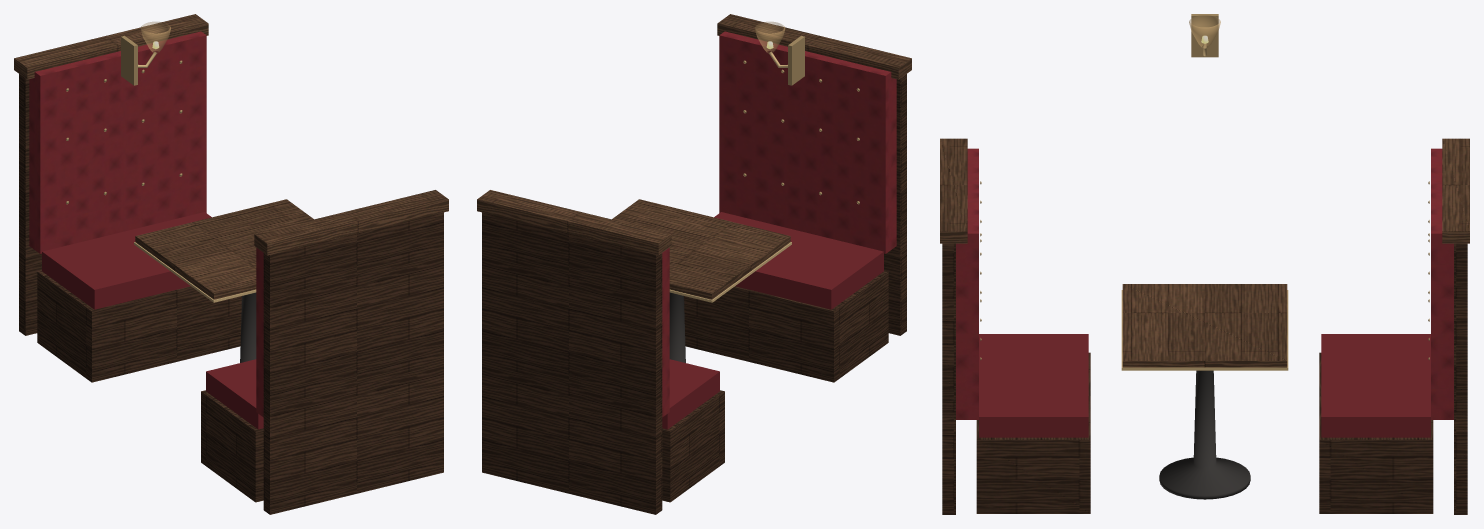
Rendered from cabine.glb.
The picture shows the model from 3 angles, left to right: view 1: azimuth 30°, elevation 25°; view 2: azimuth 150°, elevation 25°; view 3: azimuth 270°, elevation 25°; orthographic projection. The views are drawn at different scales.
Visible parts, largest first — view 1: cabine_moldura.001, cabine_encosto, cabine_base, cabine_mesa, cabine_assento, cabine_topo.001, cabine_base.001, cabine_topo, cabine_moldura, cabine_assento.001, cabine_encosto.001, cabine_mesa_pe (+2 smaller); view 2: cabine_moldura, cabine_encosto.001, cabine_base.001, cabine_mesa, cabine_assento.001, cabine_topo, cabine_base, cabine_topo.001, cabine_moldura.001, cabine_assento, cabine_encosto, cabine_mesa_pe (+2 smaller); view 3: cabine_mesa, cabine_assento, cabine_assento.001, cabine_base, cabine_base.001, cabine_encosto, cabine_encosto.001, cabine_mesa_pe, cabine_moldura, cabine_moldura.001, cabine_topo, cabine_topo.001 (+3 smaller).
Boxes of the visible parts, x1,y1,x2,y2 form: cabine_moldura.001: (263,212,443,514); cabine_encosto: (29,31,206,253); cabine_base: (37,270,241,382); cabine_mesa: (135,199,313,299); cabine_assento: (42,212,211,309); cabine_topo.001: (254,190,448,255); cabine_base.001: (201,390,263,502); cabine_topo: (14,14,208,79); cabine_moldura: (19,74,41,335); cabine_assento.001: (206,359,263,429); cabine_encosto.001: (256,247,263,417); cabine_mesa_pe: (240,292,256,362); cabine_moldura: (482,212,662,514); cabine_encosto.001: (719,31,896,253); cabine_base.001: (684,270,888,382); cabine_mesa: (612,199,790,299); cabine_assento.001: (714,212,883,309); cabine_topo: (477,190,671,255); cabine_base: (662,390,724,502); cabine_topo.001: (717,14,911,79); cabine_moldura.001: (884,74,906,335); cabine_assento: (662,359,719,429); cabine_encosto: (662,247,669,417); cabine_mesa_pe: (669,292,685,362); cabine_mesa: (1122,284,1287,367); cabine_assento: (1321,334,1430,437); cabine_assento.001: (979,334,1088,437); cabine_base: (1319,352,1433,513); cabine_base.001: (976,352,1090,513); cabine_encosto: (1431,148,1453,419); cabine_encosto.001: (956,148,978,419); cabine_mesa_pe: (1159,370,1250,499); cabine_moldura: (1454,243,1467,514); cabine_moldura.001: (942,243,955,514); cabine_topo: (1442,138,1469,243); cabine_topo.001: (940,138,967,243).
Bounding box in the file's own units: 1.06 × 1.99 × 2.32.
9 materials, 3 textured.
